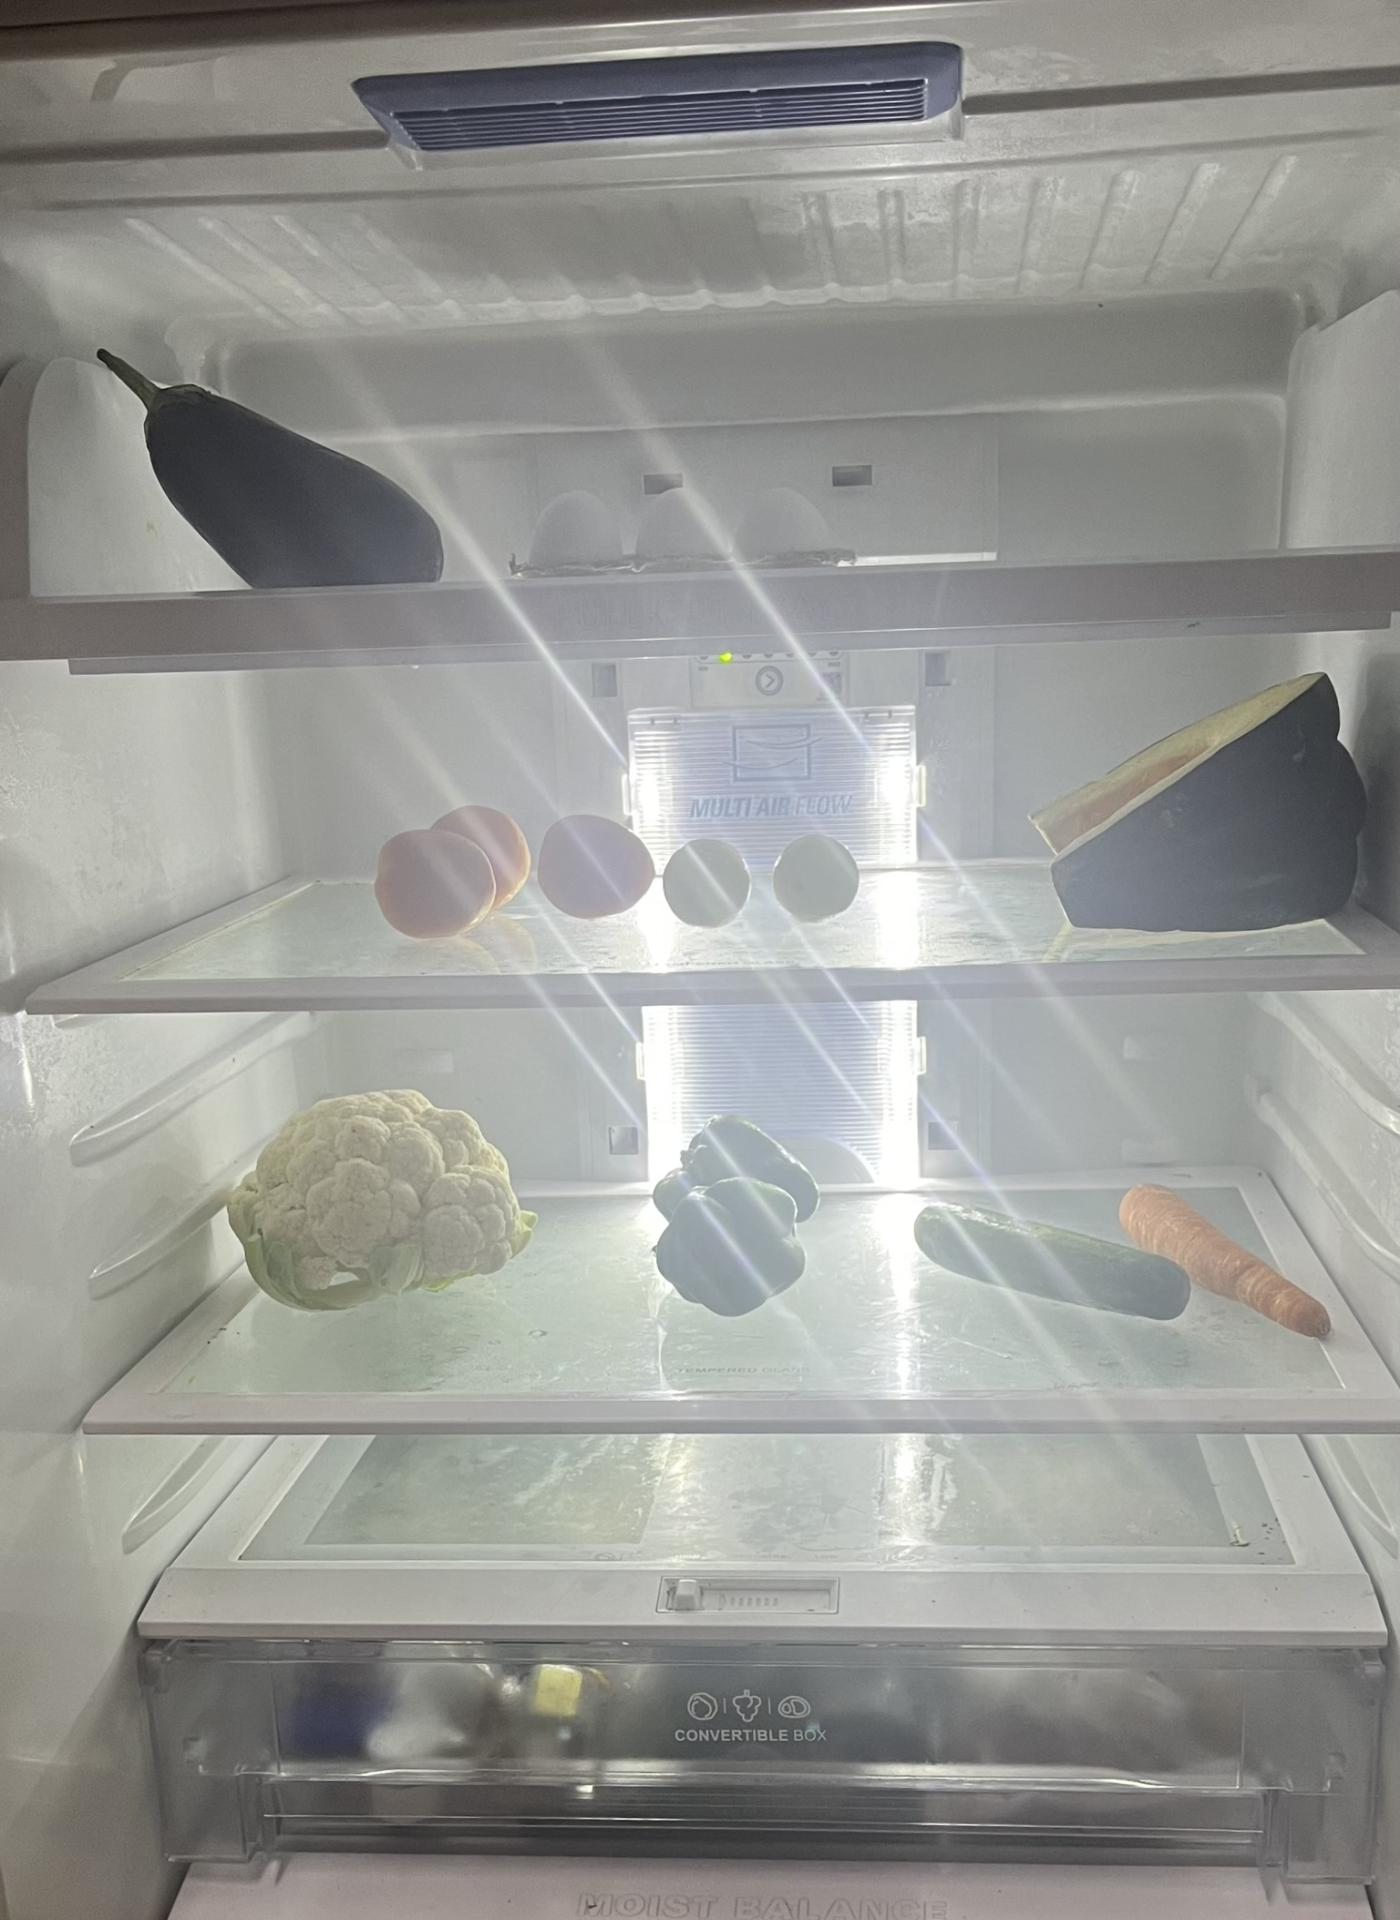brinjal: (76, 306, 449, 587)
capsicum: (652, 1120, 814, 1321)
carrots: (1118, 1176, 1330, 1346)
cauliflower: (228, 1078, 532, 1300)
cucumber: (912, 1204, 1190, 1328)
egg: (528, 499, 853, 578)
lemon: (768, 824, 863, 920), (669, 832, 754, 929)
pumpkin: (1029, 671, 1375, 936)
tomato: (371, 798, 537, 935), (540, 808, 663, 926)
